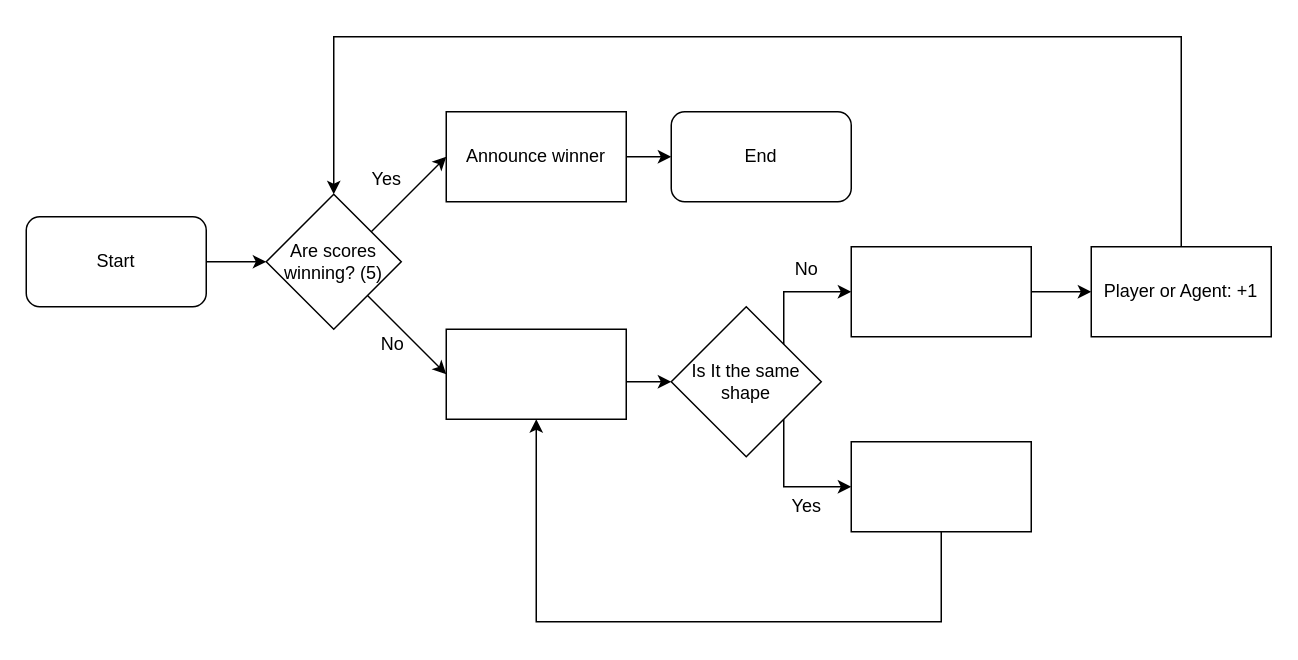
Image size: 1298x660. Some labels were removed from this diagram. Each missing label, with the centre of its shape:
"Choose winner based off shape" goes at point (940, 291).
"Player & Agent choose shape" goes at point (535, 373).
"Tie round." goes at point (940, 486).
